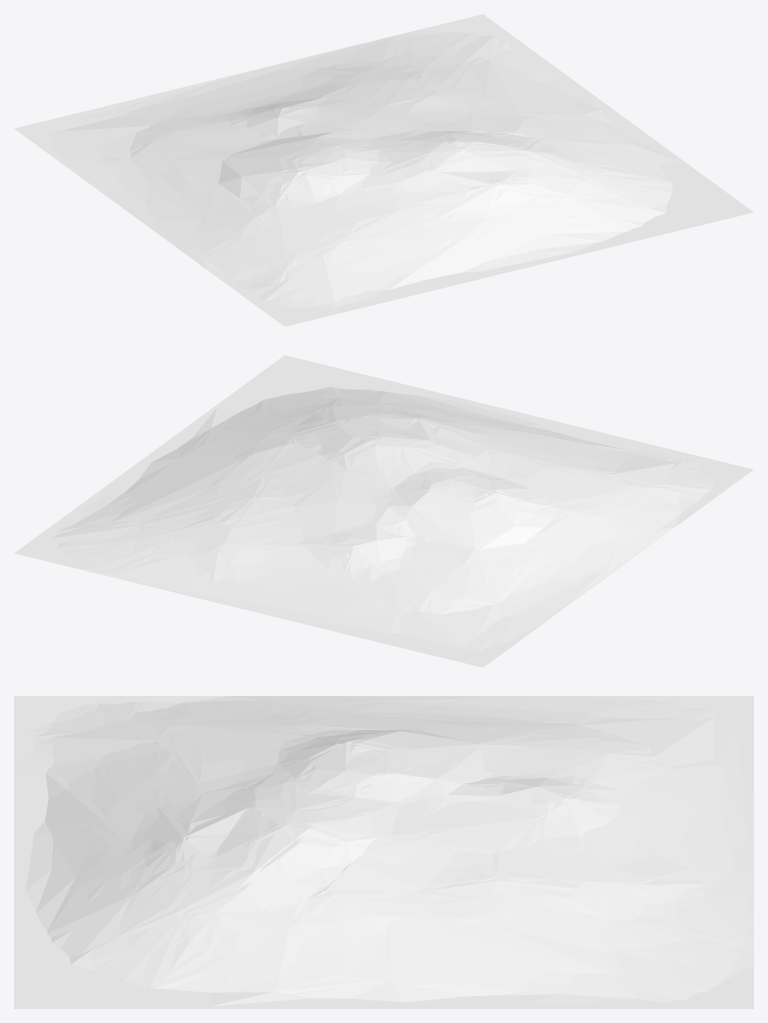
The model's file is Small_Terrain_1_Snowy.fbx.
The picture shows the model from 3 angles, top to bottom: view 1: azimuth 30°, elevation 25°; view 2: azimuth 150°, elevation 25°; view 3: azimuth 270°, elevation 25°; orthographic projection. The views are drawn at different scales.
Parts seen in each view (by area): view 1: Small Terrain 1_LOD3_Snowy, Small Terrain 1_LOD0_Snowy, Small Terrain 1_LOD2_Snowy, Small Terrain 1_LOD1_Snowy; view 2: Small Terrain 1_LOD3_Snowy, Small Terrain 1_LOD0_Snowy, Small Terrain 1_LOD2_Snowy, Small Terrain 1_LOD1_Snowy; view 3: Small Terrain 1_LOD3_Snowy, Small Terrain 1_LOD0_Snowy, Small Terrain 1_LOD2_Snowy, Small Terrain 1_LOD1_Snowy.
Part boxes in pixels (box(x1,y1,x2,y2)): Small Terrain 1_LOD3_Snowy: box(14, 16, 716, 324); Small Terrain 1_LOD0_Snowy: box(46, 14, 692, 326); Small Terrain 1_LOD2_Snowy: box(49, 31, 753, 306); Small Terrain 1_LOD1_Snowy: box(123, 16, 751, 310); Small Terrain 1_LOD3_Snowy: box(18, 364, 749, 667); Small Terrain 1_LOD0_Snowy: box(14, 355, 753, 648); Small Terrain 1_LOD2_Snowy: box(42, 355, 717, 651); Small Terrain 1_LOD1_Snowy: box(22, 356, 697, 617); Small Terrain 1_LOD3_Snowy: box(14, 696, 753, 1008); Small Terrain 1_LOD0_Snowy: box(14, 696, 753, 1008); Small Terrain 1_LOD2_Snowy: box(14, 696, 753, 1008); Small Terrain 1_LOD1_Snowy: box(14, 700, 753, 1008).
Size of the model in its own units: 10000 by 793 by 10000.
